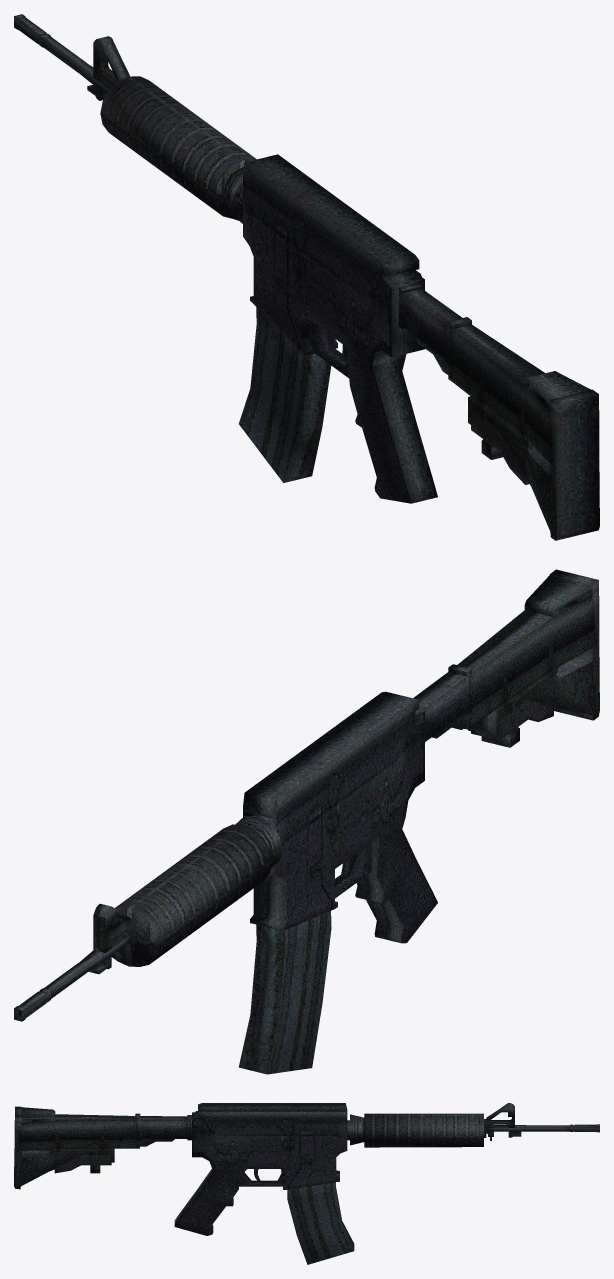
3 renders of one model, top to bottom at view 1: azimuth 30°, elevation 25°; view 2: azimuth 150°, elevation 25°; view 3: azimuth 270°, elevation 25°, orthographic. The views are drawn at different scales.
Parts seen in each view (by area): view 1: Main, Stock, Hand Guard, Magazine, Barrel, Trigger Guard; view 2: Main, Stock, Hand Guard, Magazine, Barrel, Trigger Guard; view 3: Main, Stock, Hand Guard, Magazine, Barrel, Trigger Guard.
Boxes of the visible parts, x1,y1,x2,y2 form: Main: (243,154,437,503); Stock: (398,283,599,540); Hand Guard: (100,76,256,223); Magazine: (238,307,331,482); Barrel: (14,14,130,100); Trigger Guard: (309,320,349,378); Main: (243,691,437,943); Stock: (413,569,599,747); Hand Guard: (111,816,282,966); Magazine: (238,911,331,1074); Barrel: (14,903,134,1021); Trigger Guard: (335,842,371,898); Main: (174,1103,347,1235); Stock: (14,1106,191,1189); Hand Guard: (347,1113,483,1147); Magazine: (287,1182,354,1264); Barrel: (484,1103,599,1140); Trigger Guard: (239,1169,285,1186).
Bounding box in the file's own units: 0.24 × 1.2 × 4.06.
Materials: 1 (1 with a texture image).
